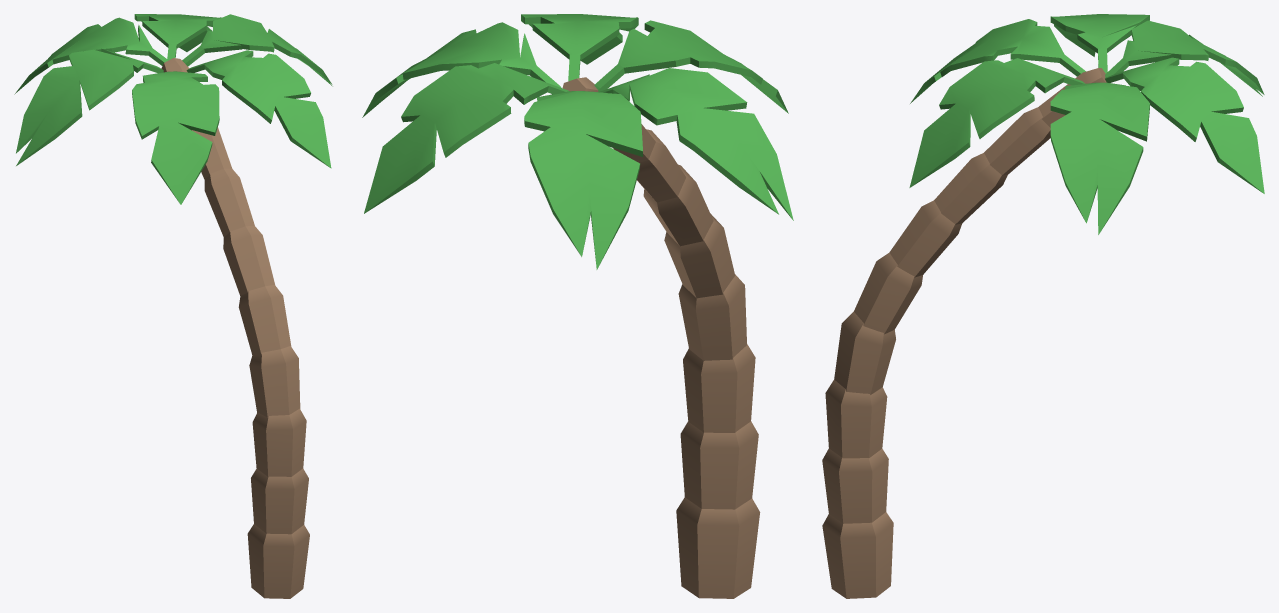
File: palm_tree_lowpoly.glb
3 views of the same model, side by side, from view 1: azimuth 30°, elevation 25°; view 2: azimuth 150°, elevation 25°; view 3: azimuth 270°, elevation 25° (orthographic). The views are drawn at different scales.
Parts seen in each view (by area): view 1: pPlane1_lambert2_0, pCylinder10_lambert3_0; view 2: pPlane1_lambert2_0, pCylinder10_lambert3_0; view 3: pPlane1_lambert2_0, pCylinder10_lambert3_0.
Part boxes in pixels (left/top/right/bottom): pPlane1_lambert2_0: left=14, top=14, right=332, bottom=204; pCylinder10_lambert3_0: left=161, top=58, right=309, bottom=598; pPlane1_lambert2_0: left=362, top=14, right=793, bottom=269; pCylinder10_lambert3_0: left=562, top=77, right=760, bottom=598; pPlane1_lambert2_0: left=909, top=14, right=1264, bottom=234; pCylinder10_lambert3_0: left=822, top=68, right=1106, bottom=598.
Size of the model in its own units: 0.0822 by 0.1148 by 0.0861.
